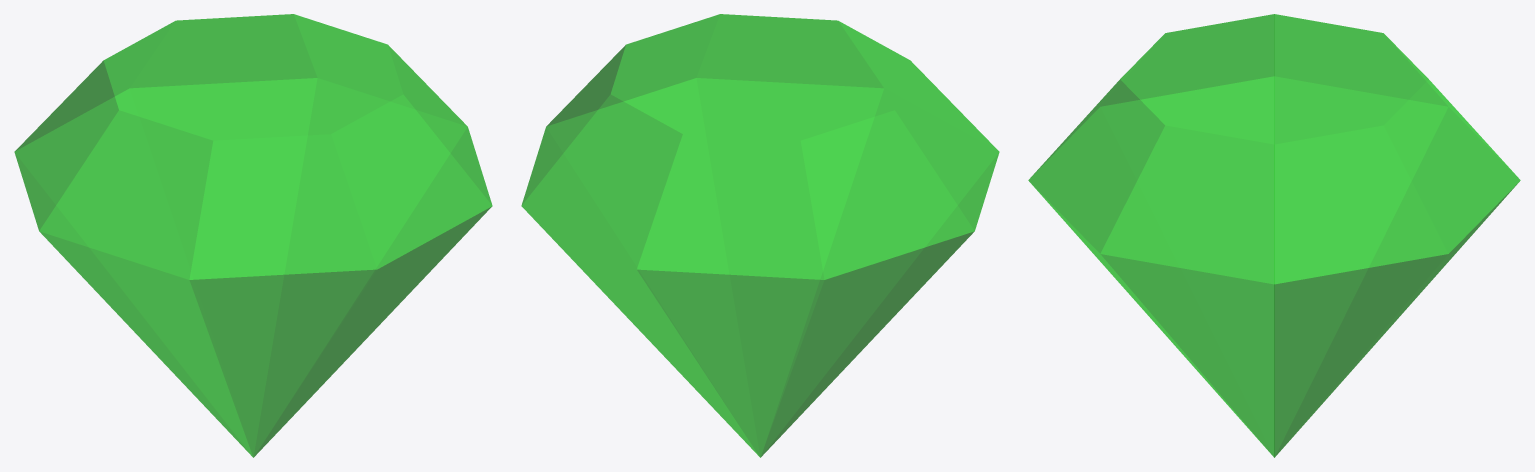
File: Gem.fbx
3 renders of one model, left to right at view 1: azimuth 30°, elevation 25°; view 2: azimuth 150°, elevation 25°; view 3: azimuth 270°, elevation 25°, orthographic.
Parts seen in each view (by area): view 1: Component#6_001; view 2: Component#6_001; view 3: Component#6_001.
Part boxes in pixels (bbox=[...]): Component#6_001: bbox=[14, 14, 492, 457]; Component#6_001: bbox=[521, 14, 999, 457]; Component#6_001: bbox=[1028, 14, 1520, 457].
Size of the model in its own units: 24.51 by 20.79 by 24.51.
